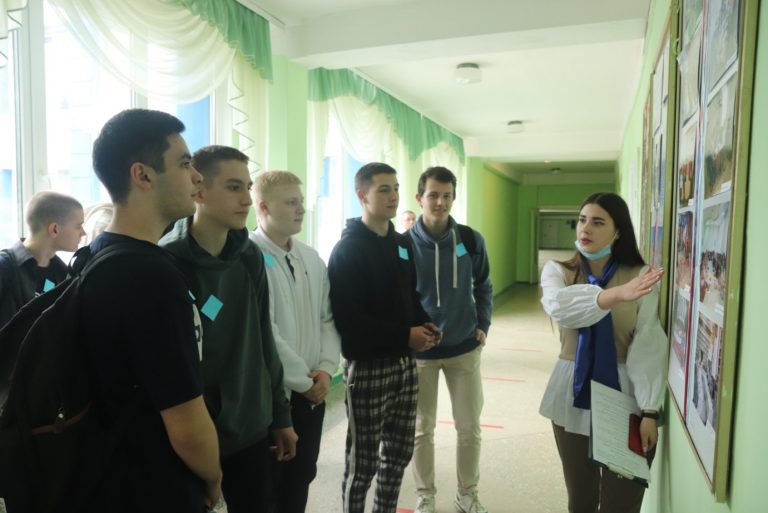students: (1, 107, 223, 510), (161, 144, 300, 512), (538, 191, 668, 511), (328, 161, 445, 511), (249, 168, 342, 511), (402, 166, 494, 511), (2, 190, 88, 324), (402, 208, 417, 229)
